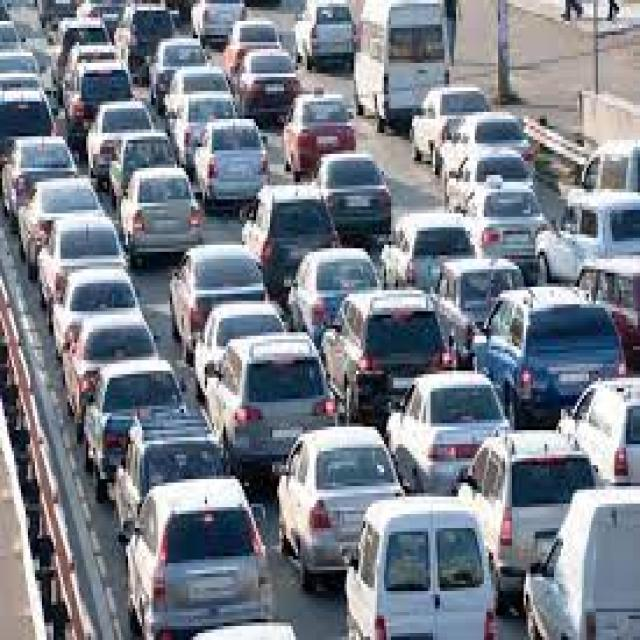high_traffic: (20, 16, 615, 621)
